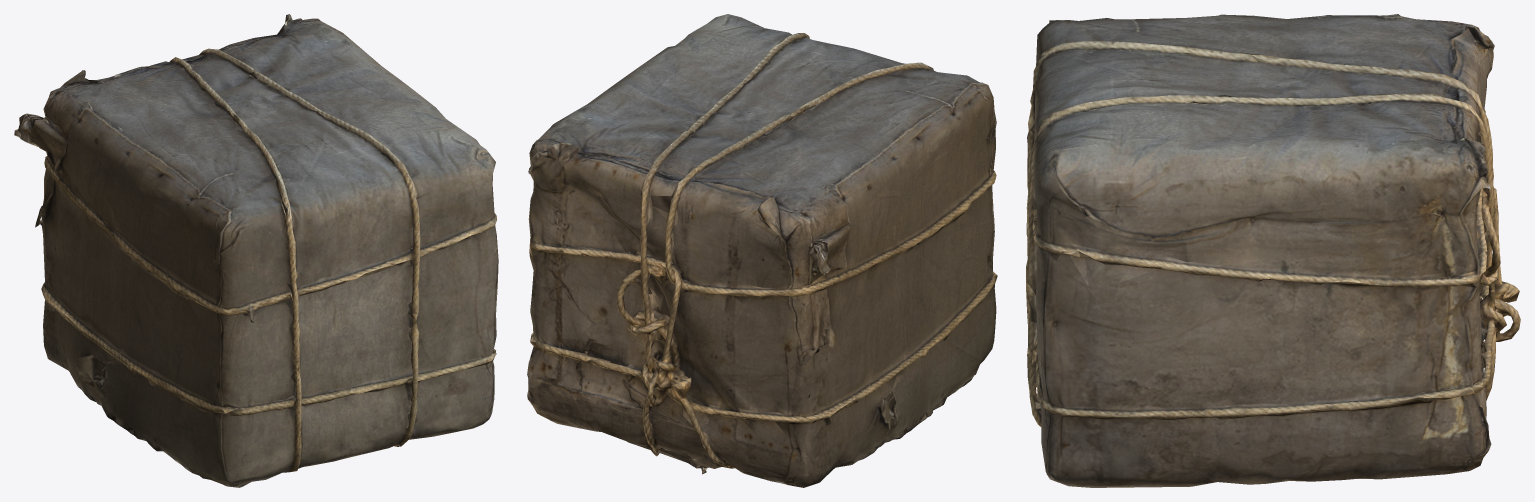
Rendered from MOD_Canvas_Crate_A.fbx.
The picture shows the model from 3 angles, left to right: view 1: azimuth 30°, elevation 25°; view 2: azimuth 150°, elevation 25°; view 3: azimuth 270°, elevation 25°; orthographic projection. The views are drawn at different scales.
Parts seen in each view (by area): view 1: MOD_Canvas_Crate_A; view 2: MOD_Canvas_Crate_A; view 3: MOD_Canvas_Crate_A.
Part boxes in pixels (<box>): MOD_Canvas_Crate_A: <box>14,14,498,487</box>; MOD_Canvas_Crate_A: <box>527,14,997,487</box>; MOD_Canvas_Crate_A: <box>1026,14,1520,487</box>.
Size of the model in its own units: 72.39 by 68.61 by 85.52.
